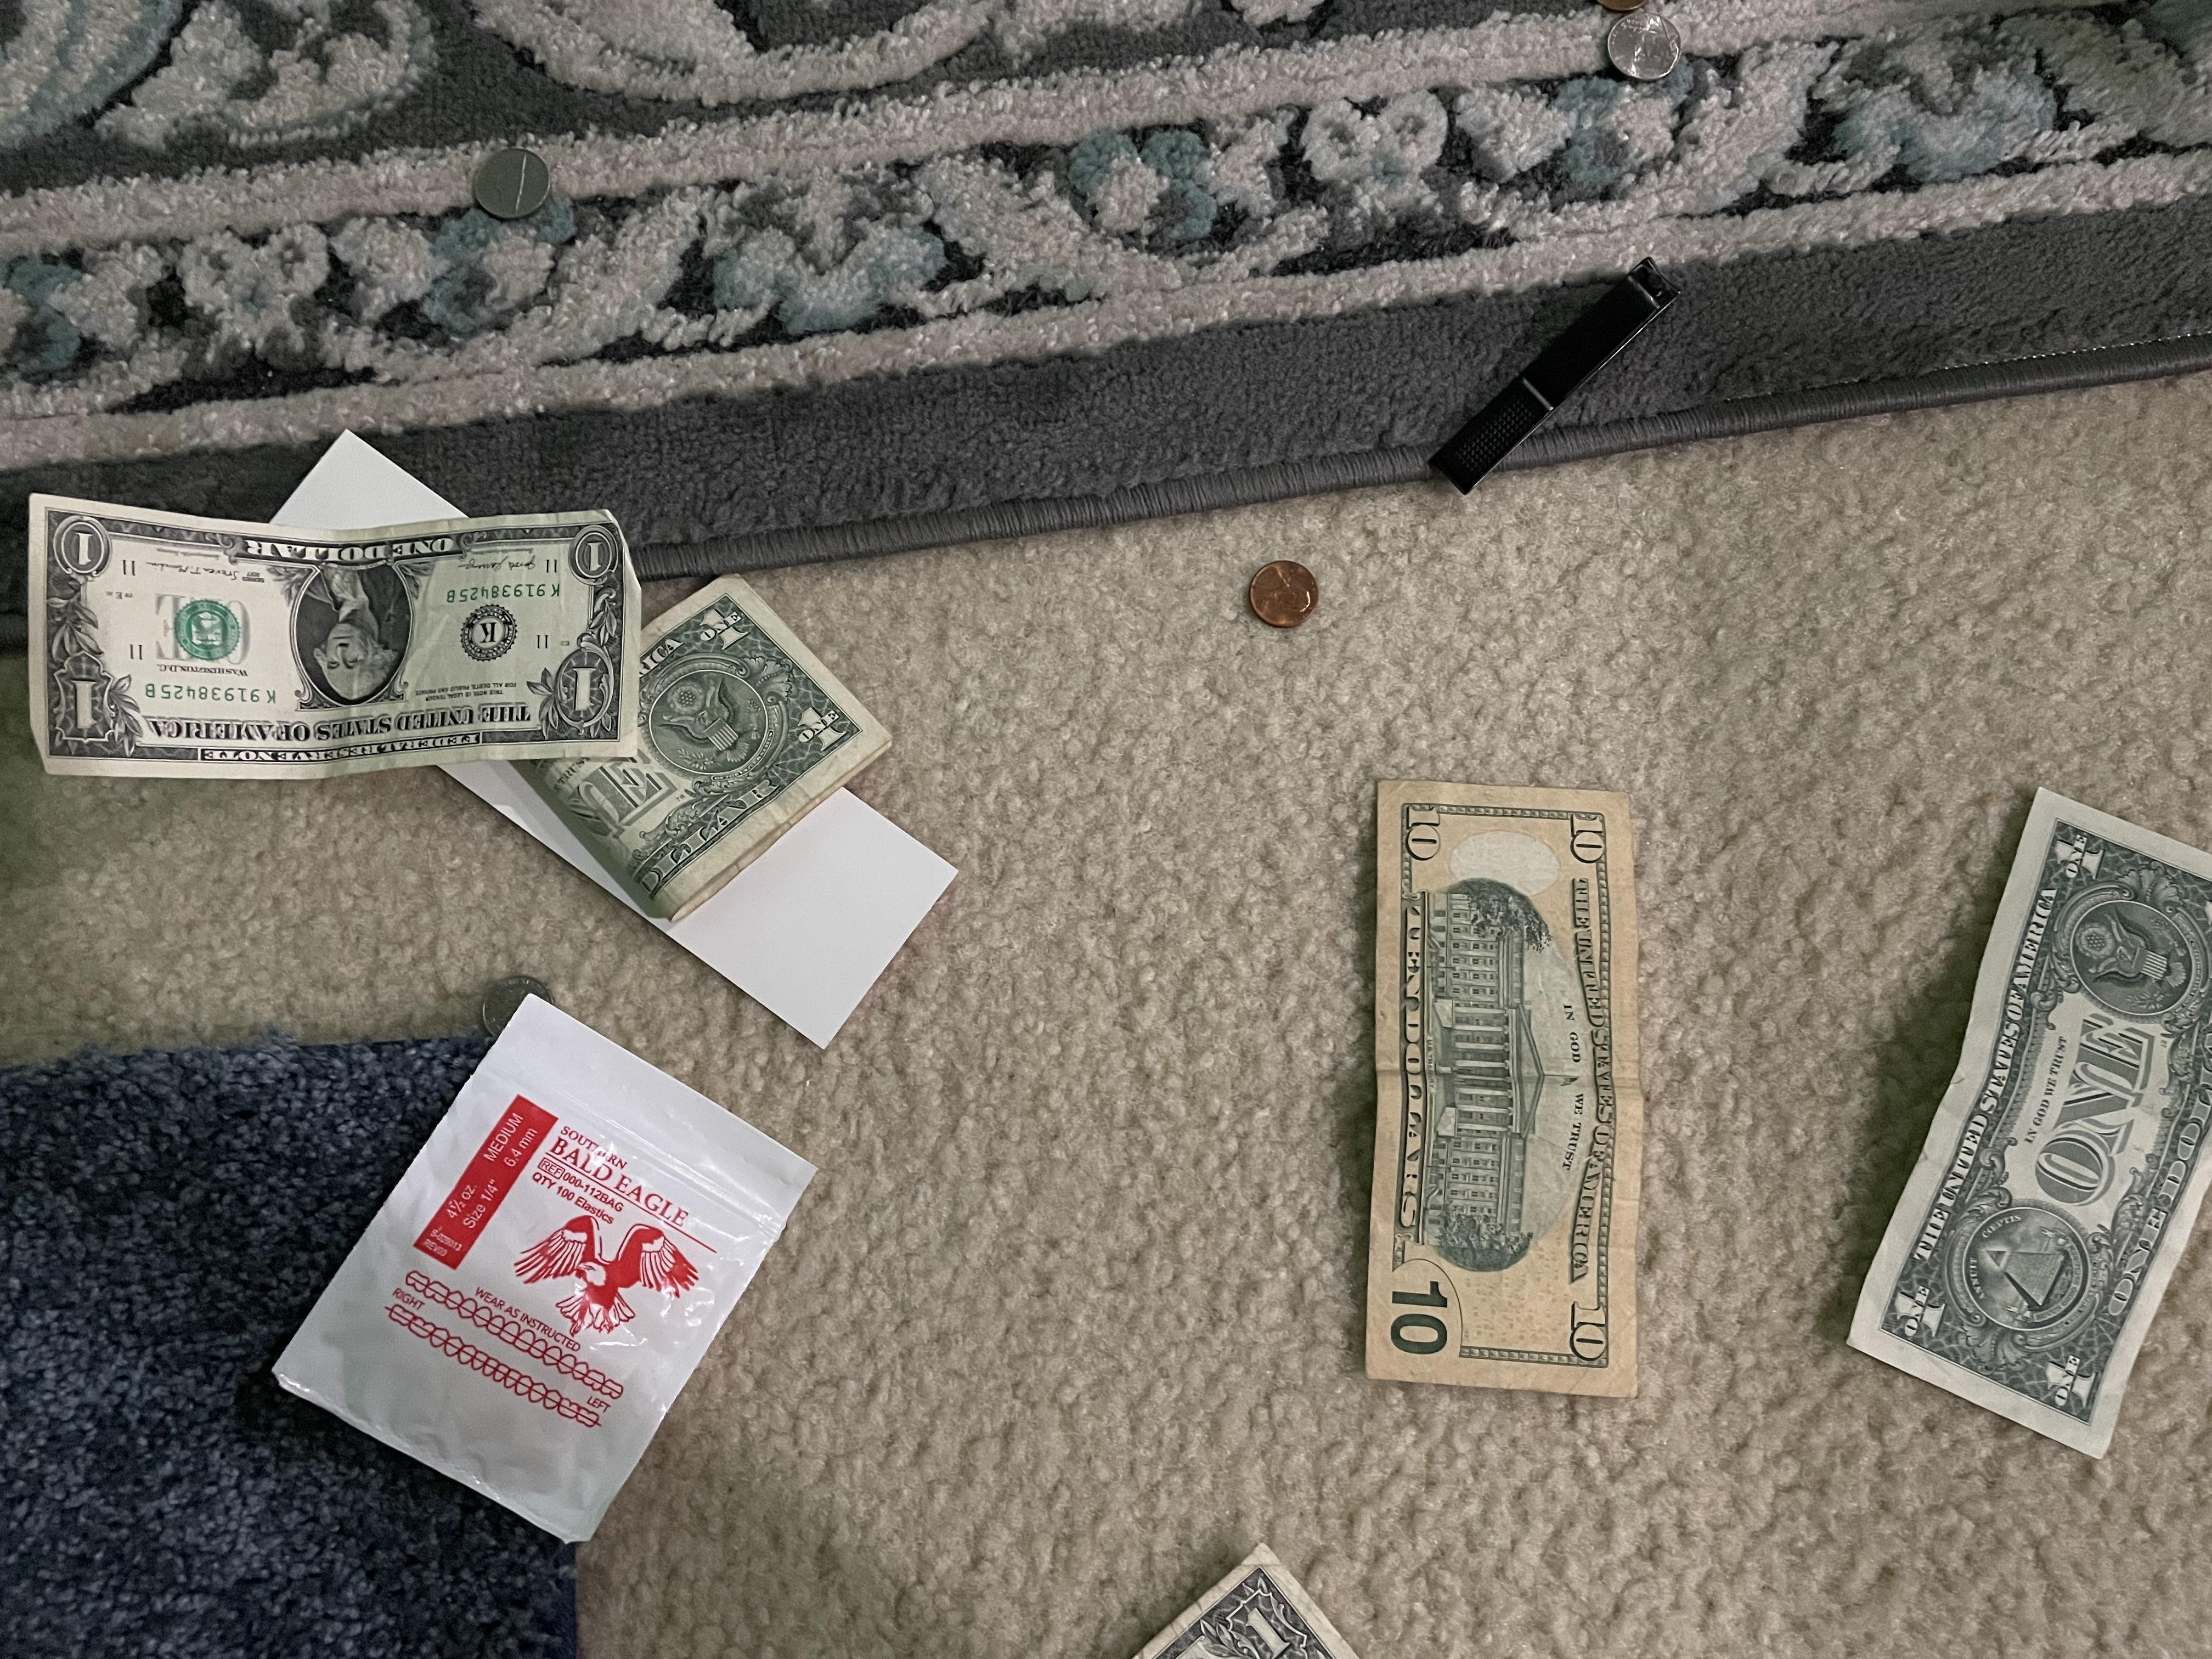OneBill: (1850, 777, 2203, 1471), (19, 472, 653, 781), (486, 563, 899, 918)
Penny: (1237, 549, 1338, 643)
TenBill: (1359, 770, 1672, 1434)
